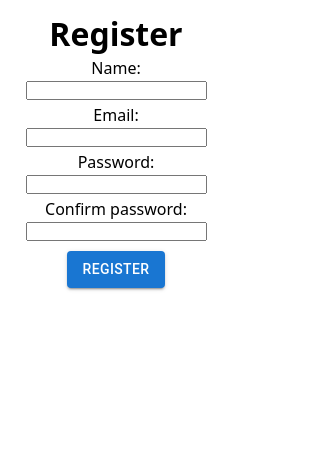
Test: RegistrationForm › displays error messages for invalid inputs
Type "invalid-email" into the field labelled "Email:" at x=116, y=138, box [26,128,206,147]
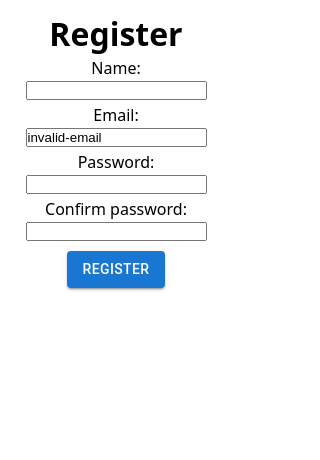
Type "short" into the password field labelled "Password:" at x=116, y=184, box [26,175,206,194]
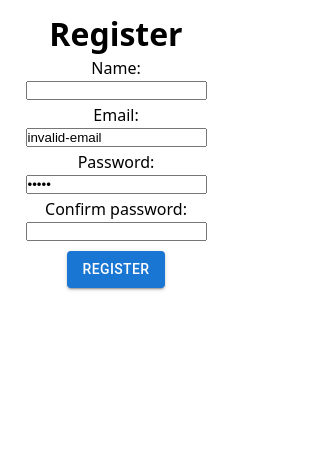
Type "short" into the password field labelled "Confirm password:" at x=116, y=232, box [26,222,206,241]
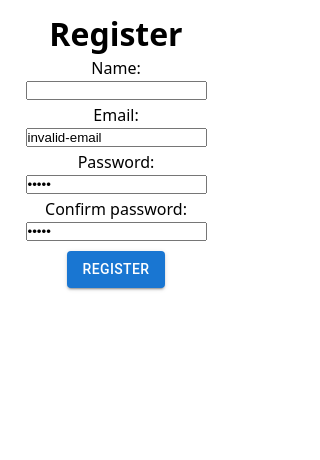
Click the button "Register" at x=116, y=269, box [66,251,166,288]
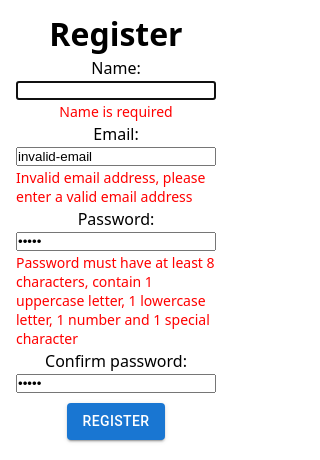
Expected: the text "Invalid email address, please enter a valid email address" is shown, [16,168,216,206]
Expected: the text "Password must have at least 8 characters, contain 1 uppercase letter, 1 lowercase letter, 1 number and 1 special charact" is shown, [16,253,215,348]
